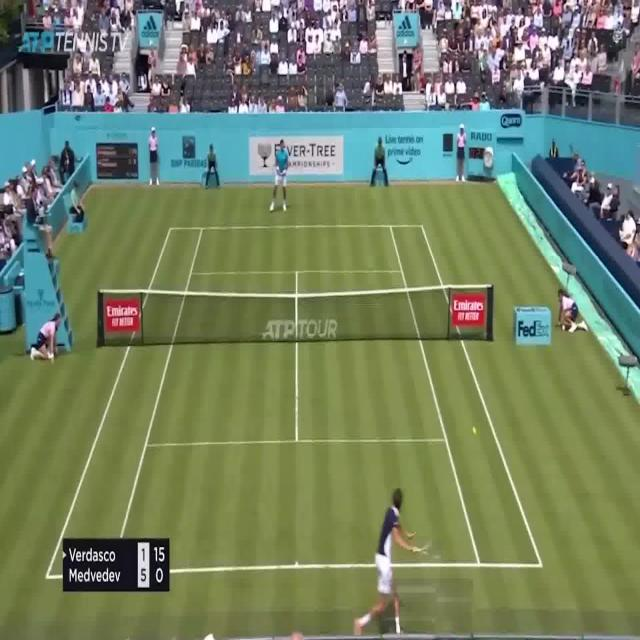bottom-dead-zone: (110, 442, 480, 574)
court: (44, 223, 544, 579)
left-doubles-alley: (46, 227, 203, 578)
left-service-box: (145, 272, 297, 445)
net: (96, 283, 494, 349)
right-doubles-alley: (388, 224, 543, 568)
right-service-box: (296, 272, 448, 442)
top-dead-zone: (190, 227, 403, 274)
